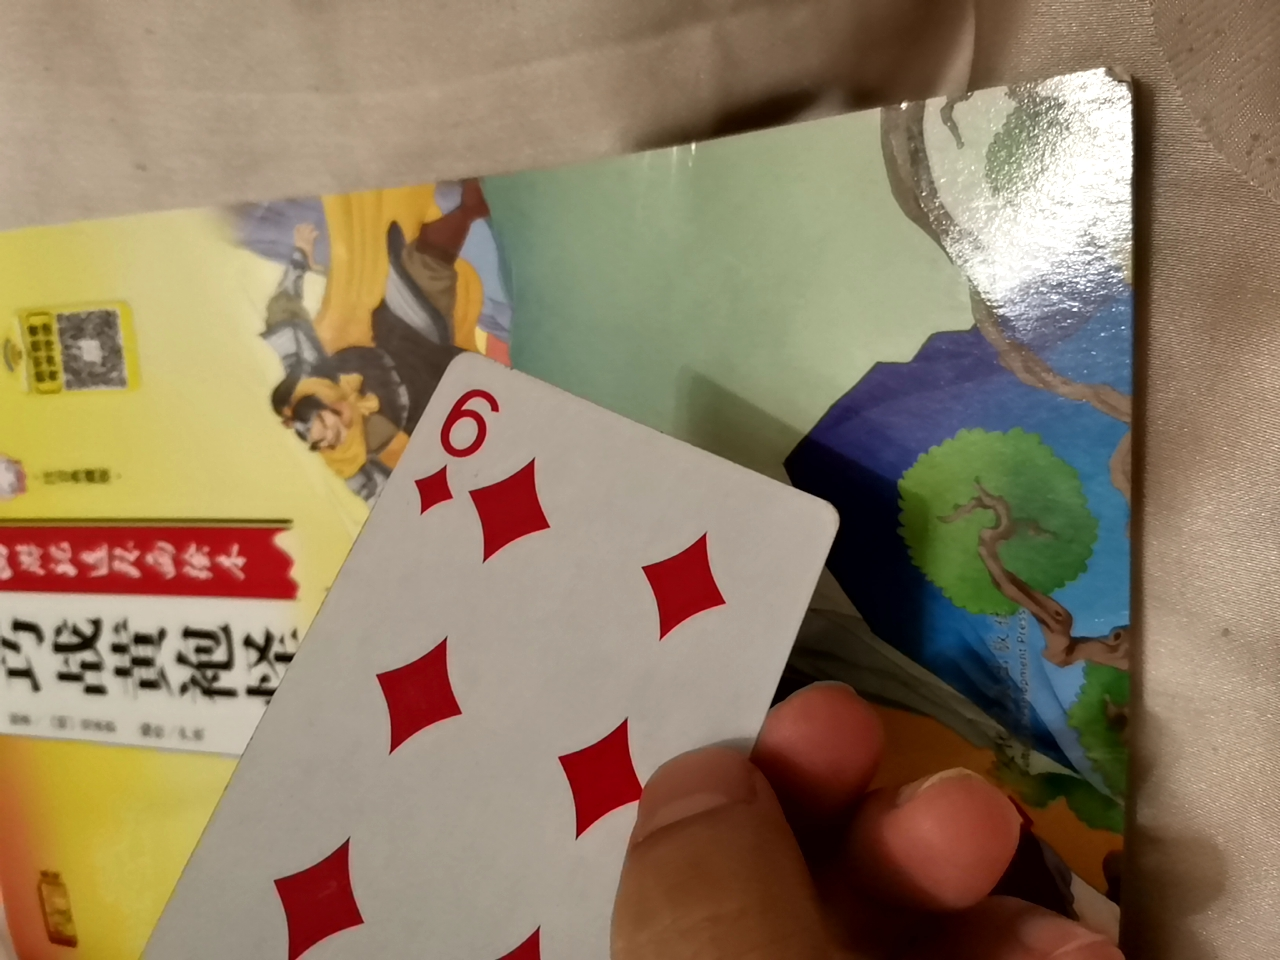fk 6: (196, 347, 864, 954)
